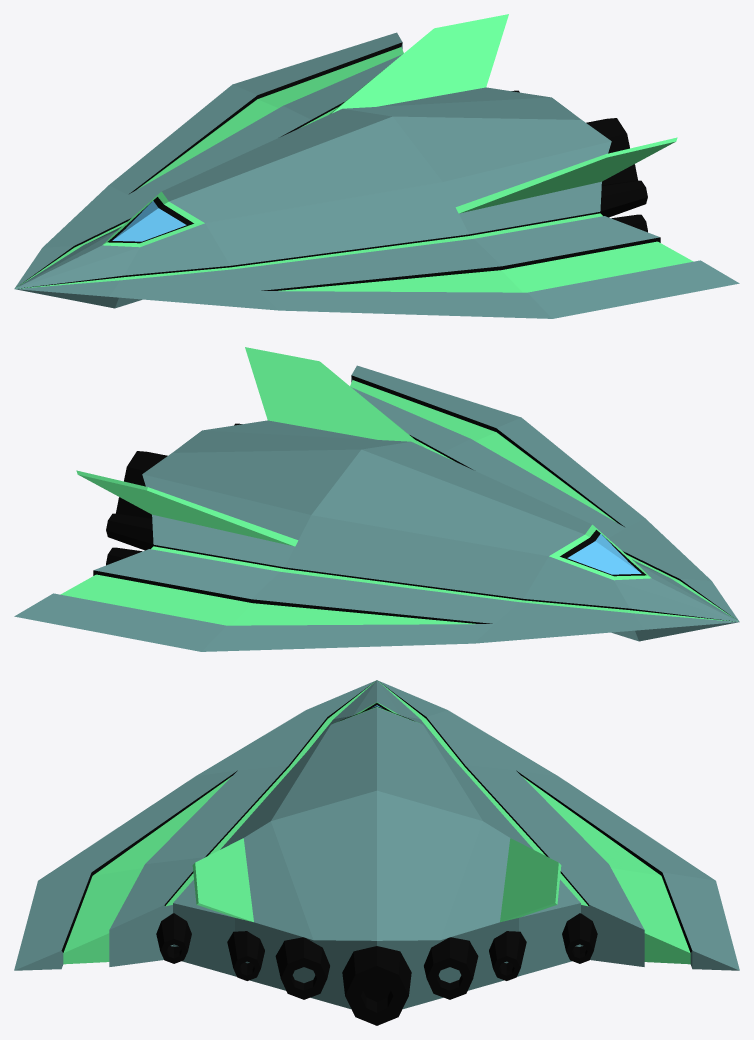
File: scout4.fbx
3 views of the same model, one above another, from view 1: azimuth 30°, elevation 25°; view 2: azimuth 150°, elevation 25°; view 3: azimuth 270°, elevation 25° (orthographic). The views are drawn at different scales.
Visible parts, largest first — view 1: Scout4; view 2: Scout4; view 3: Scout4.
Part boxes in pixels (x1,y1,x2,y2): Scout4: [14, 14, 739, 318]; Scout4: [14, 347, 739, 651]; Scout4: [14, 680, 739, 1025].
Bounding box in the file's own units: 557 × 117 × 549.
